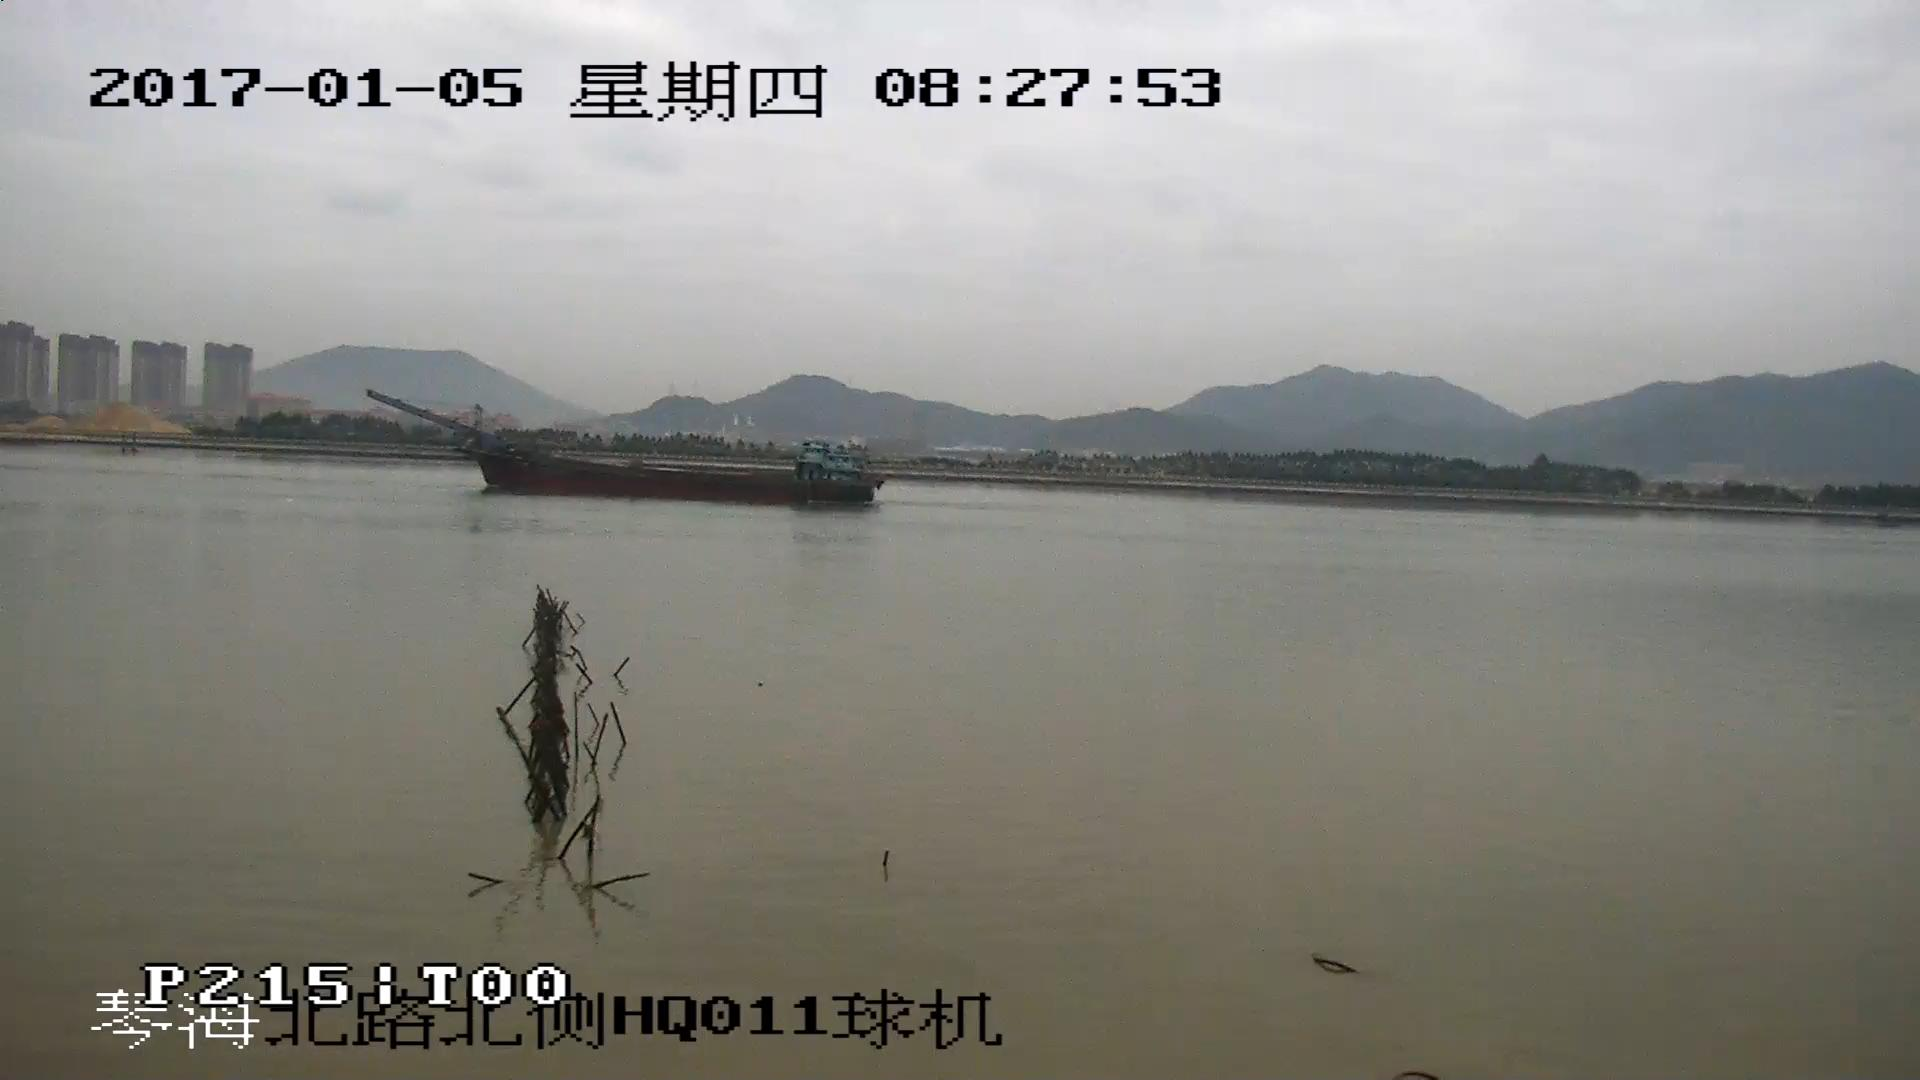bulk cargo carrier: (368, 392, 876, 505)
